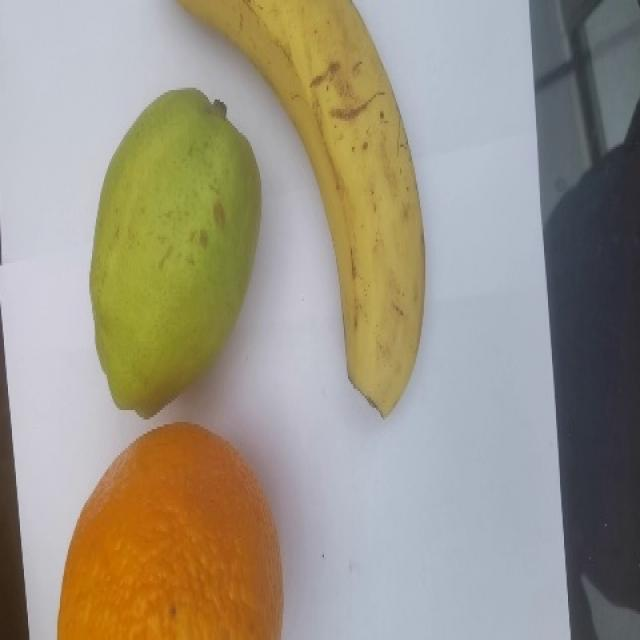Banana: (174, 0, 422, 419)
Orange: (56, 416, 286, 640)
